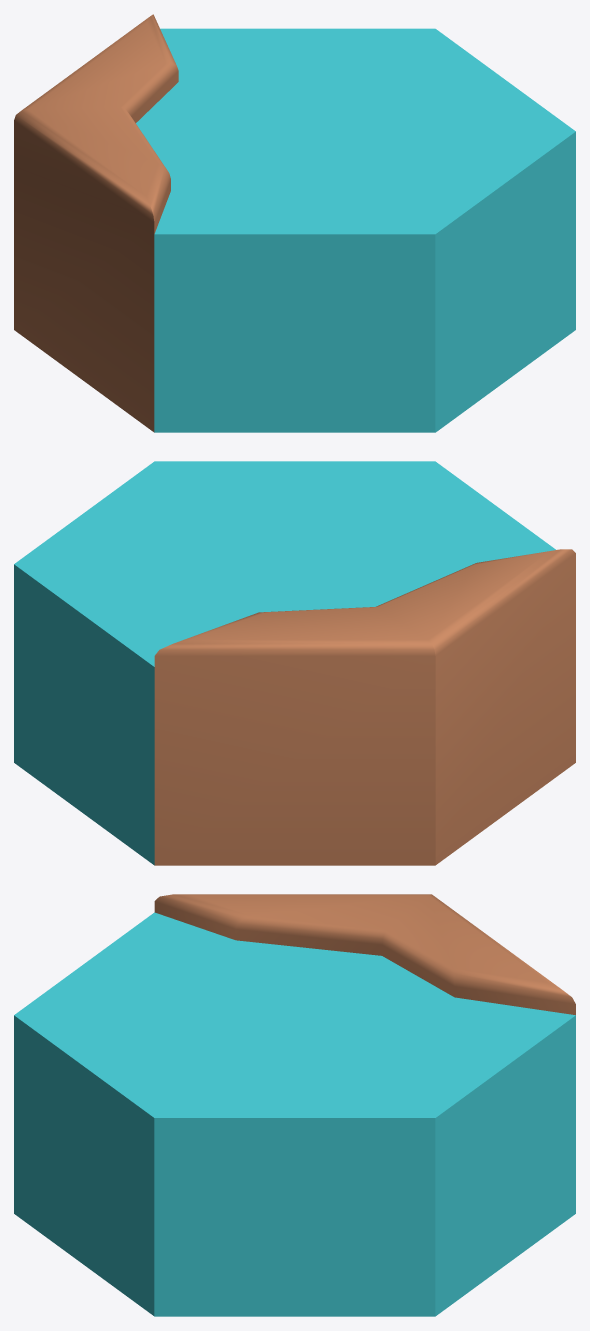
File: hex_rock_waterA.glb
3 views of the same model, one above another, from view 1: azimuth 30°, elevation 25°; view 2: azimuth 150°, elevation 25°; view 3: azimuth 270°, elevation 25° (orthographic).
Visible parts, largest first — view 1: hex_rock_waterA; view 2: hex_rock_waterA; view 3: hex_rock_waterA.
Boxes of the visible parts, x1,y1,x2,y2 form: hex_rock_waterA: [14, 14, 575, 432]; hex_rock_waterA: [14, 461, 575, 865]; hex_rock_waterA: [14, 894, 575, 1316].
Size of the model in its own units: 3.82 by 1.91 by 4.41.
